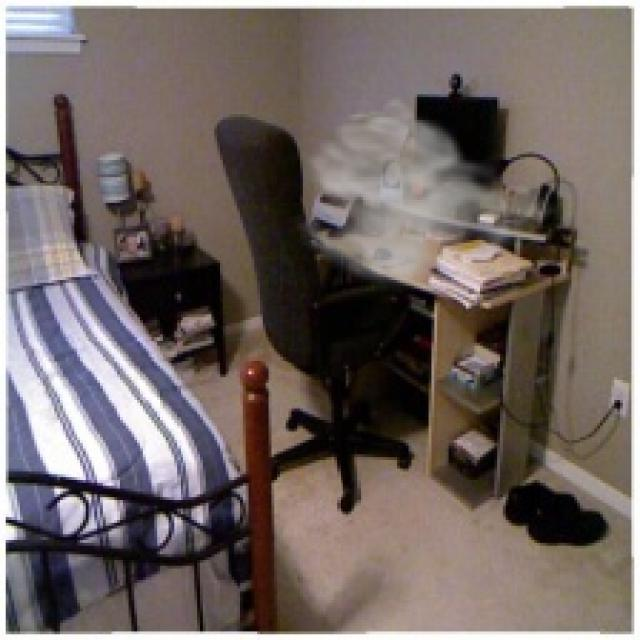Smoke: (280, 94, 563, 294)
